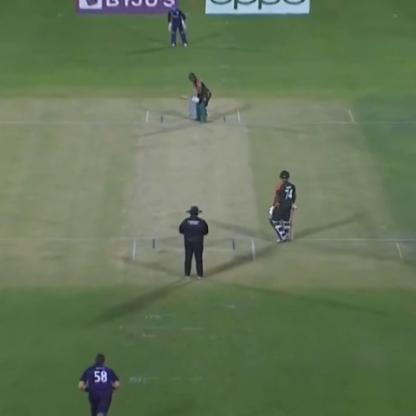pitch: (126, 108, 258, 270)
